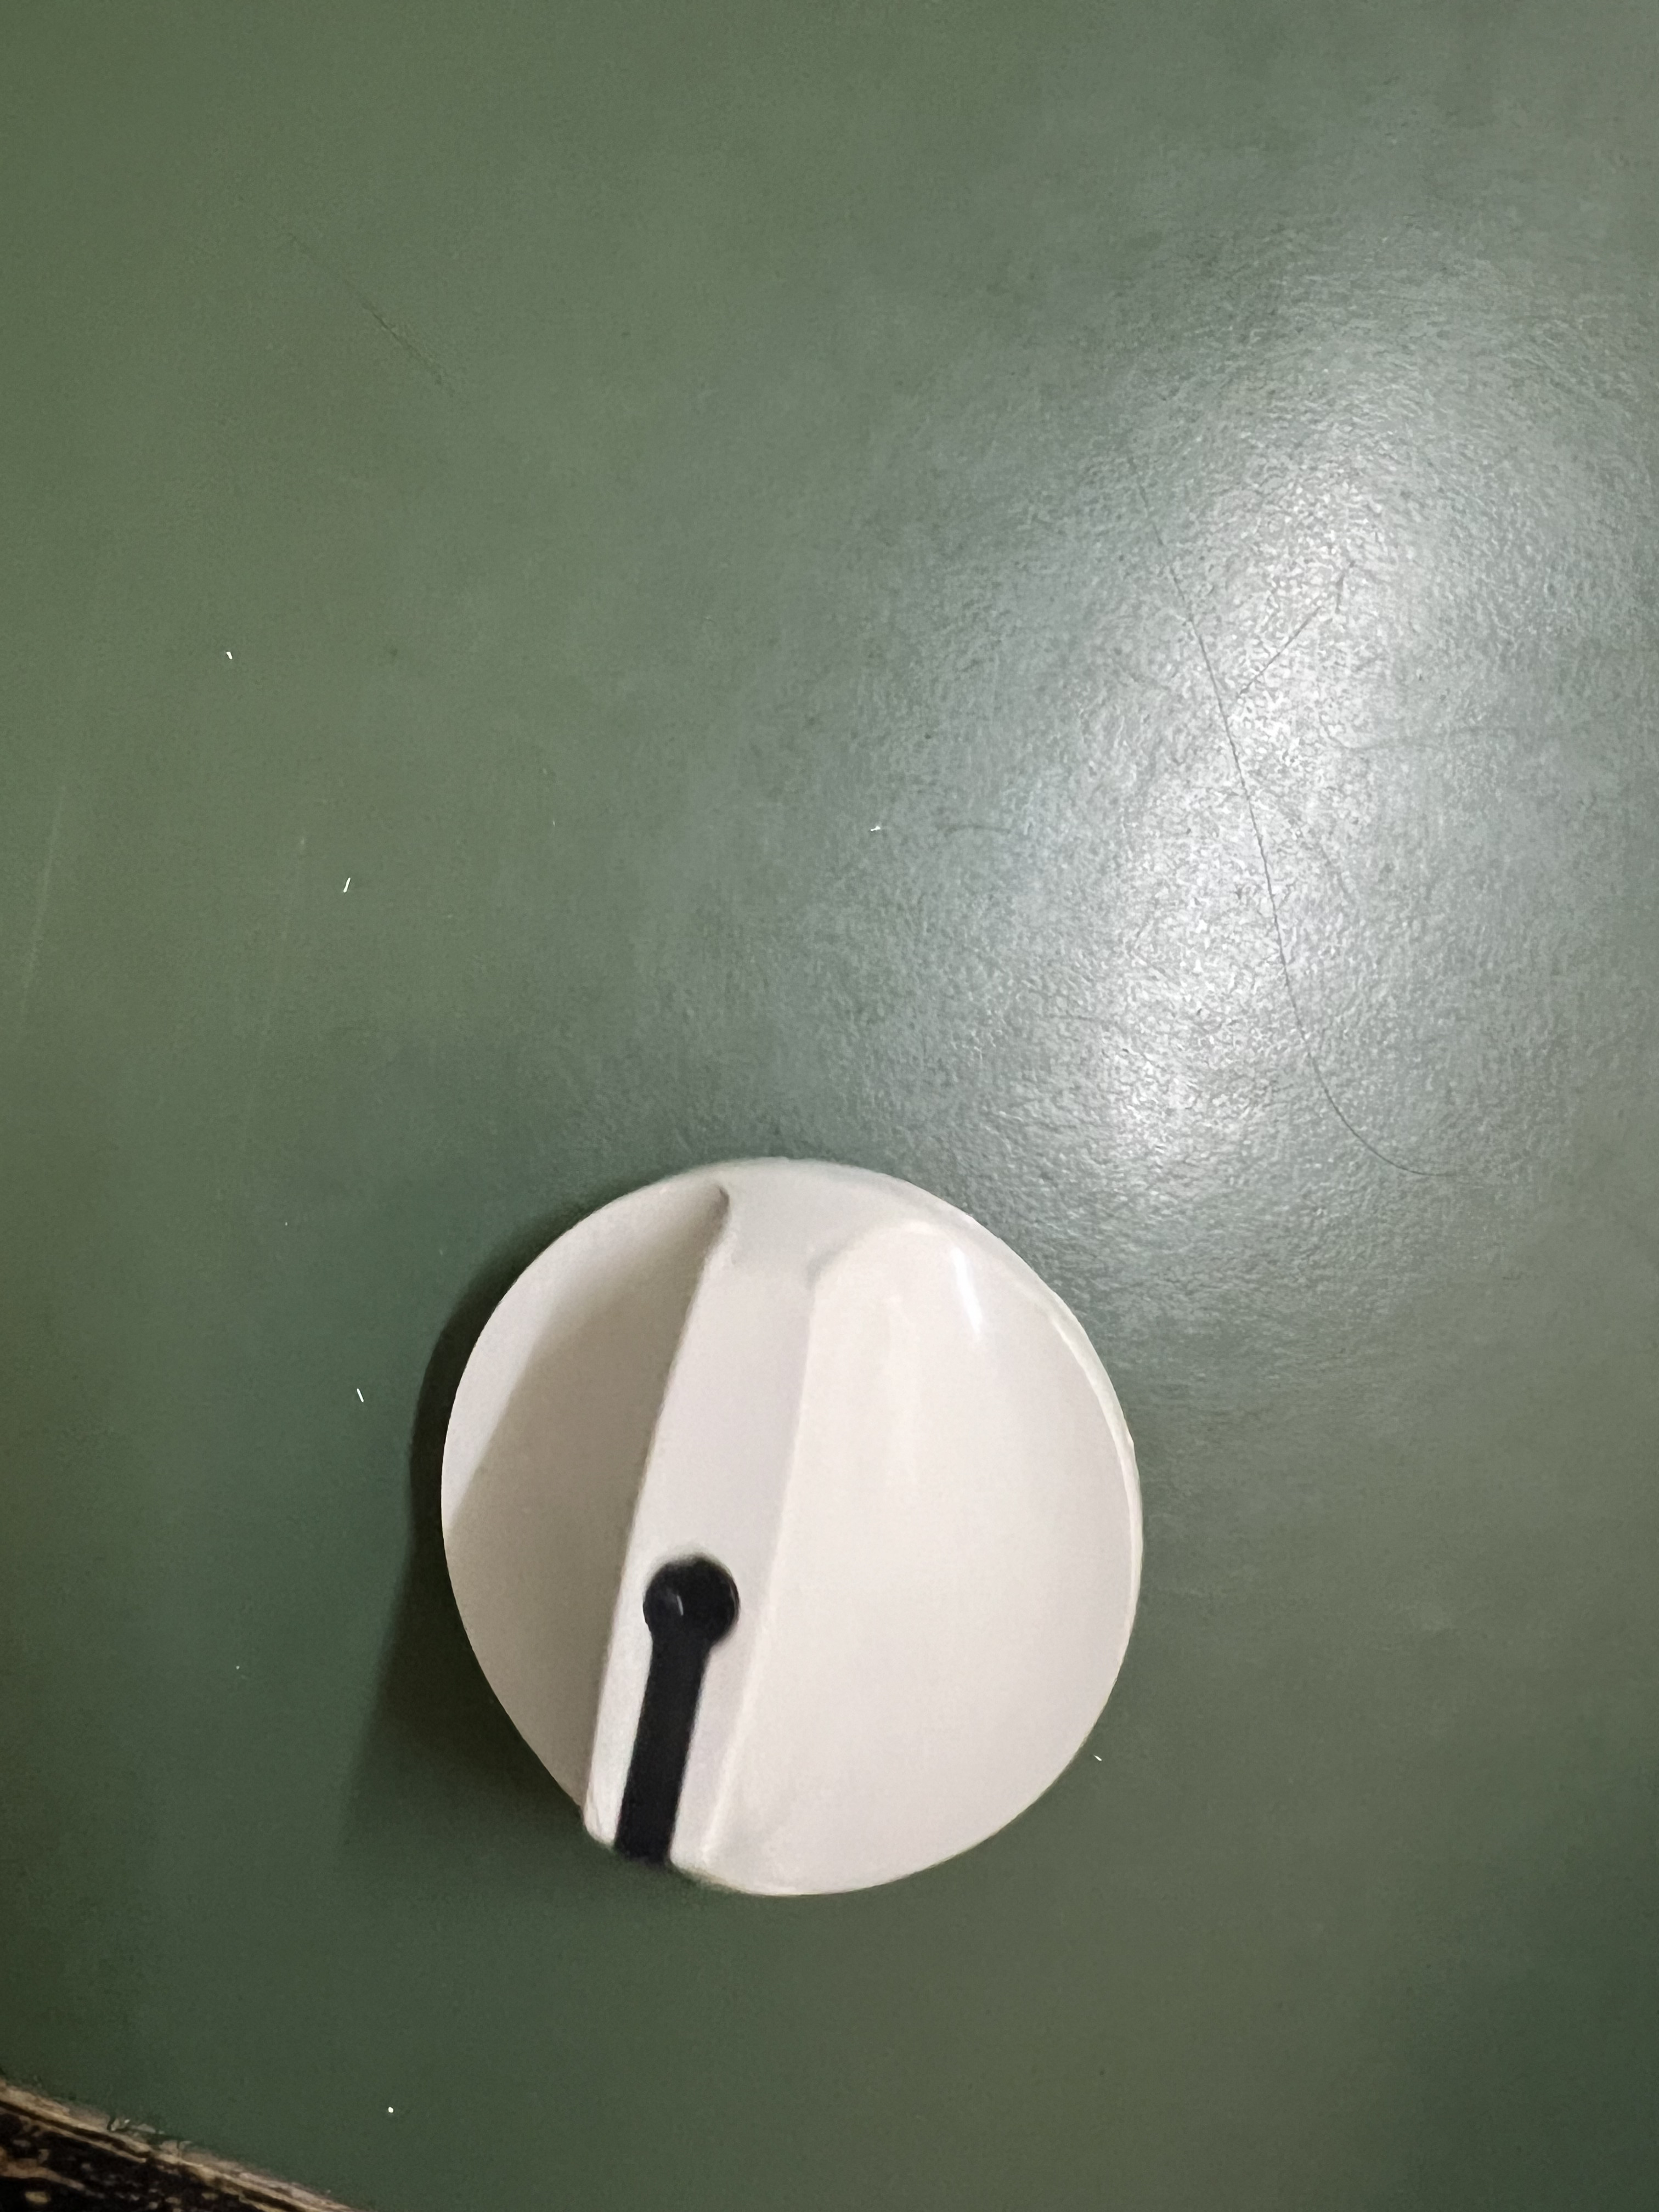regulator: (386, 1130, 1173, 1888)
